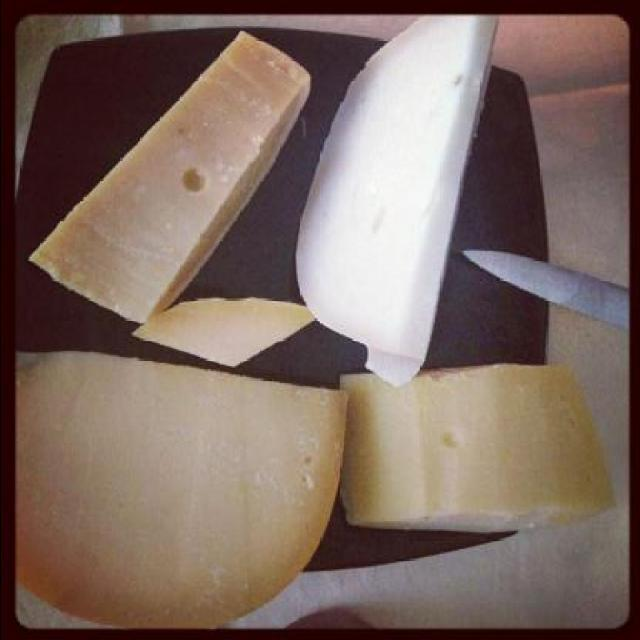Cheese: (11, 348, 354, 630), (25, 26, 312, 326), (293, 16, 497, 382), (338, 358, 614, 536), (138, 290, 316, 372)
